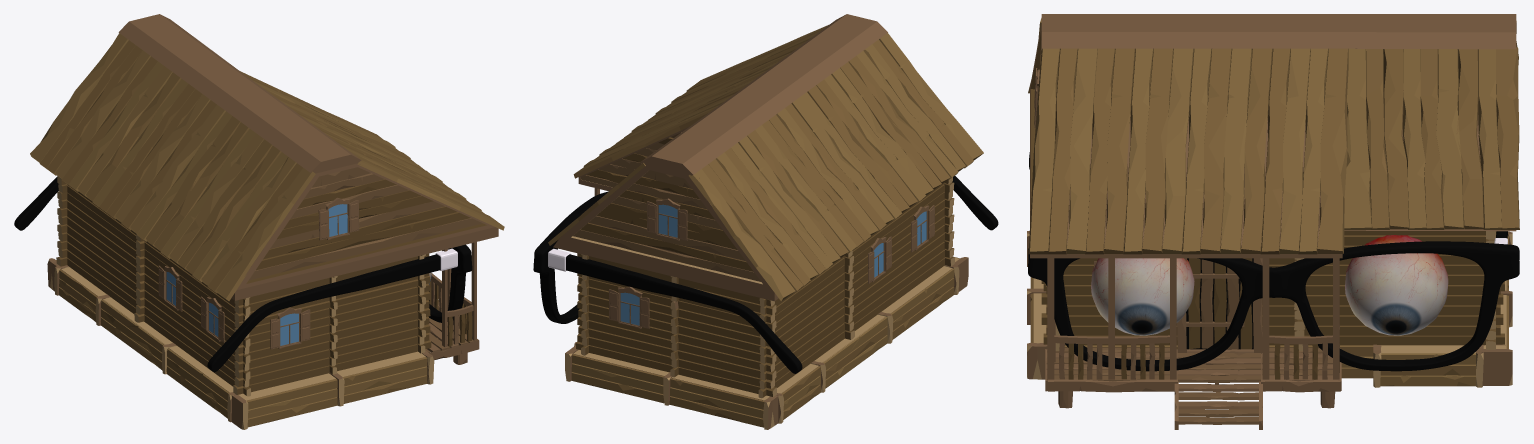
Rendered from Hous_Join.gltf.
3 views of the same model, side by side, from view 1: azimuth 30°, elevation 25°; view 2: azimuth 150°, elevation 25°; view 3: azimuth 270°, elevation 25° (orthographic). The views are drawn at different scales.
Parts seen in each view (by area): view 1: House; view 2: House; view 3: House.
Part boxes in pixels (bbox=[...]): House: bbox=[14, 14, 504, 429]; House: bbox=[533, 14, 998, 429]; House: bbox=[1027, 14, 1519, 429].
Bounding box in the file's own units: 0.9481 × 0.7232 × 1.07.
Materials: 12 (2 with a texture image).
